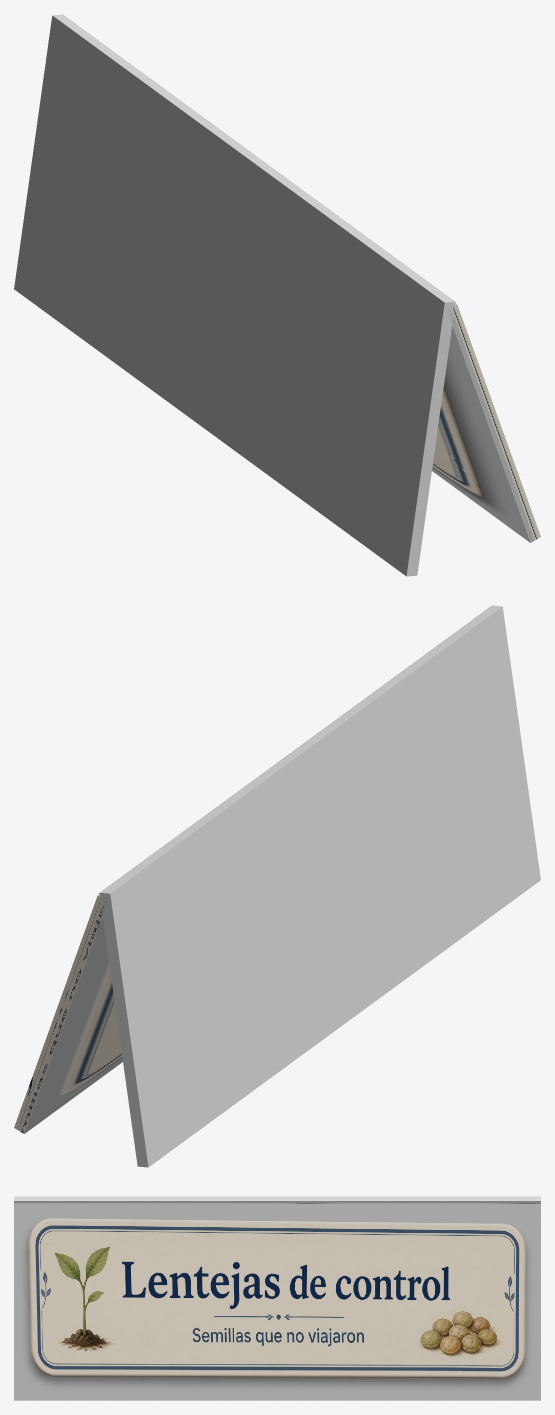
The model's file is lencontrol.glb.
3 views of the same model, one above another, from view 1: azimuth 30°, elevation 25°; view 2: azimuth 150°, elevation 25°; view 3: azimuth 270°, elevation 25° (orthographic). The views are drawn at different scales.
Visible parts, largest first — view 1: Cube, Cube.001; view 2: Cube, Cube.001; view 3: Cube.001, Cube.
Boxes of the visible parts, x1,y1,x2,y2 form: Cube: (14,14,455,576); Cube.001: (432,303,540,542); Cube: (99,605,540,1167); Cube.001: (14,894,122,1133); Cube.001: (14,1203,540,1400); Cube: (14,1196,540,1203).
Bounding box in the file's own units: 0.8928 × 1.69 × 4.51.
2 materials, 1 textured.
